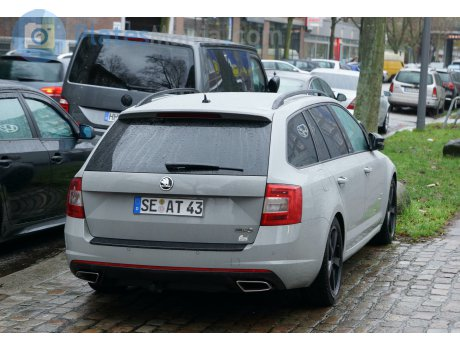License Plates: (139, 196, 201, 213)
